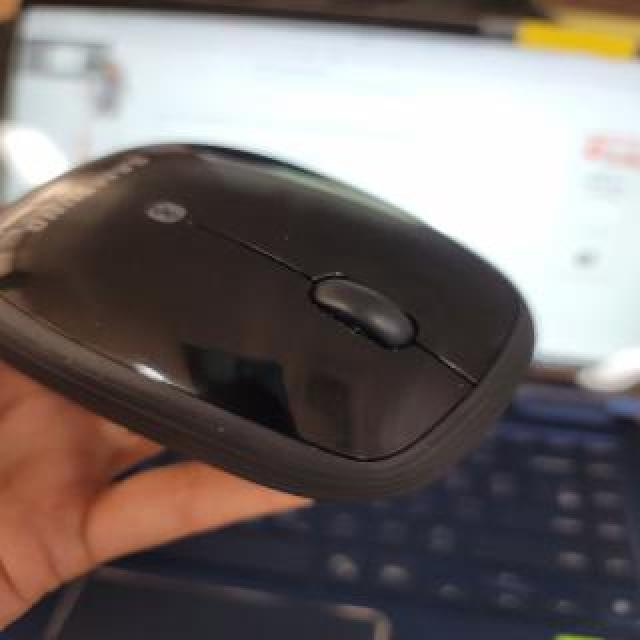laptop_computer: (0, 32, 620, 640)
mouse: (3, 142, 535, 478)
